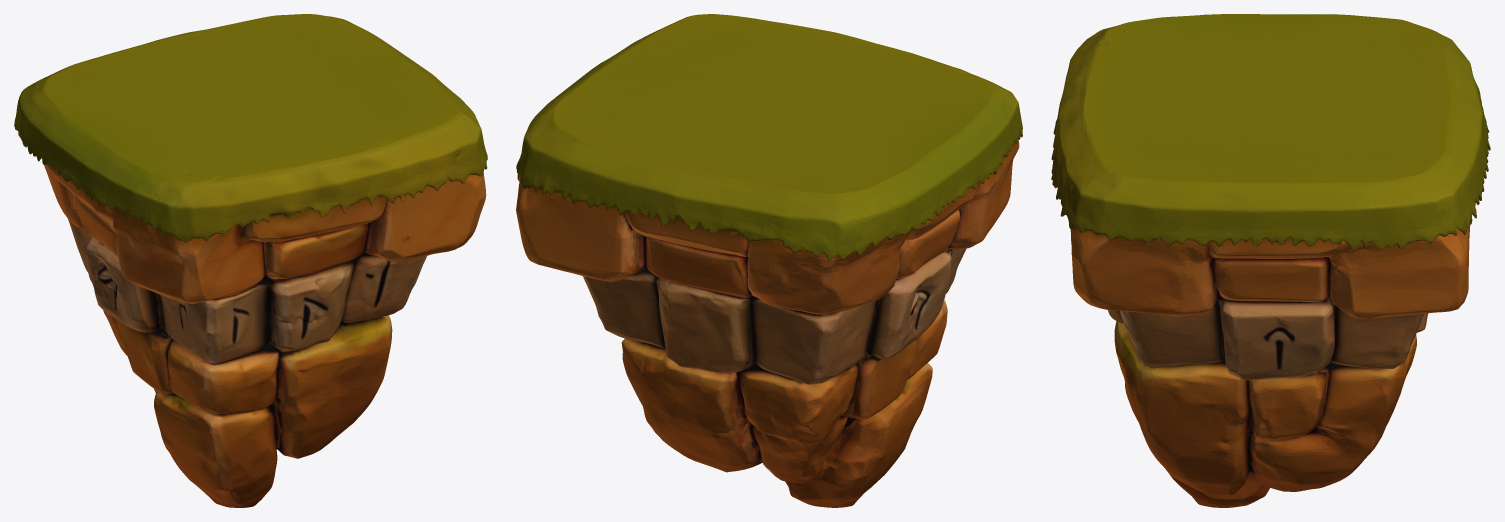
The model's file is platform_short.glb.
The picture shows the model from 3 angles, left to right: view 1: azimuth 30°, elevation 25°; view 2: azimuth 150°, elevation 25°; view 3: azimuth 270°, elevation 25°; orthographic projection. The views are drawn at different scales.
Parts seen in each view (by area): view 1: tmp3kzi0sd6.ply; view 2: tmp3kzi0sd6.ply; view 3: tmp3kzi0sd6.ply.
Boxes of the visible parts, x1=… form: tmp3kzi0sd6.ply: x1=14, y1=14, x2=487, y2=507; tmp3kzi0sd6.ply: x1=516, y1=14, x2=1022, y2=507; tmp3kzi0sd6.ply: x1=1051, y1=14, x2=1490, y2=507.
Size of the model in its own units: 1.99 by 1.99 by 1.88.
1 material, 1 textured.
